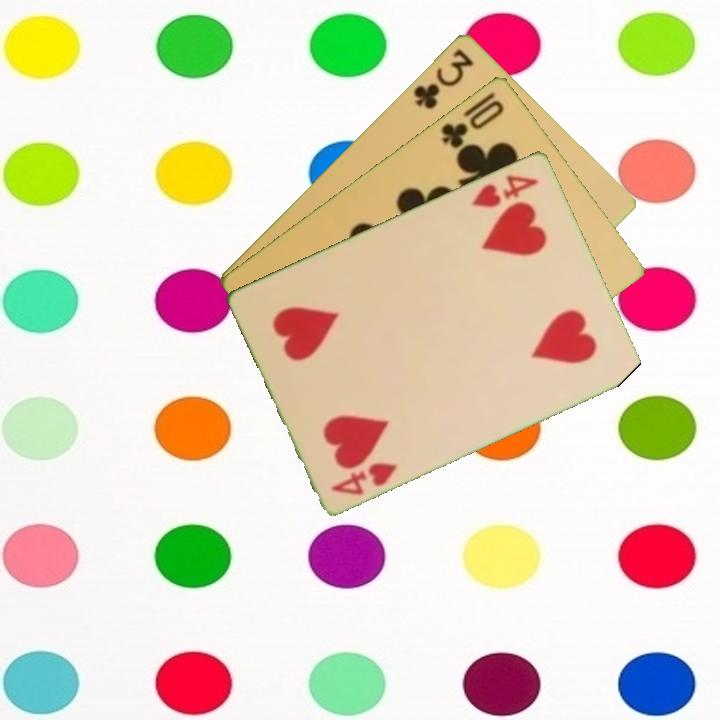10c: (437, 96, 508, 151)
3c: (410, 45, 477, 112)
4h: (467, 170, 542, 210), (327, 458, 401, 498)
